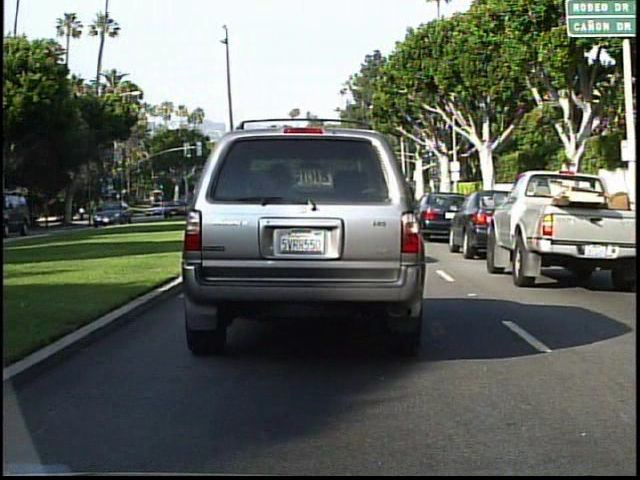person: (78, 203, 87, 223)
